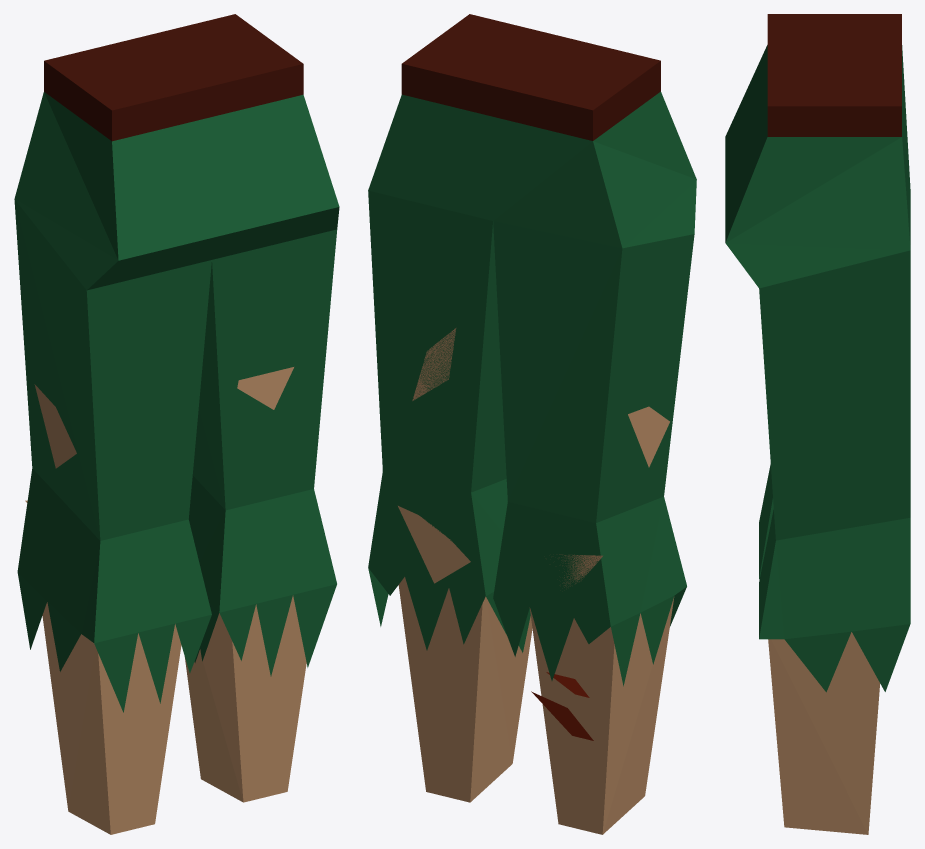
The model's file is player_male_legs_41_0.obj.
3 renders of one model, left to right at view 1: azimuth 30°, elevation 25°; view 2: azimuth 150°, elevation 25°; view 3: azimuth 270°, elevation 25°, orthographic.
Bounding box in the file's own units: 0.2656 × 0.75 × 0.1719.
